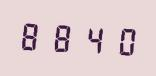eight: (18, 16, 46, 54), (47, 18, 75, 55)
four: (76, 19, 104, 57)
zero: (105, 21, 133, 58)
